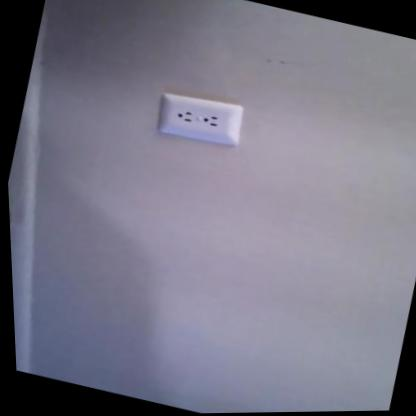OUTLET: (153, 85, 248, 151)
